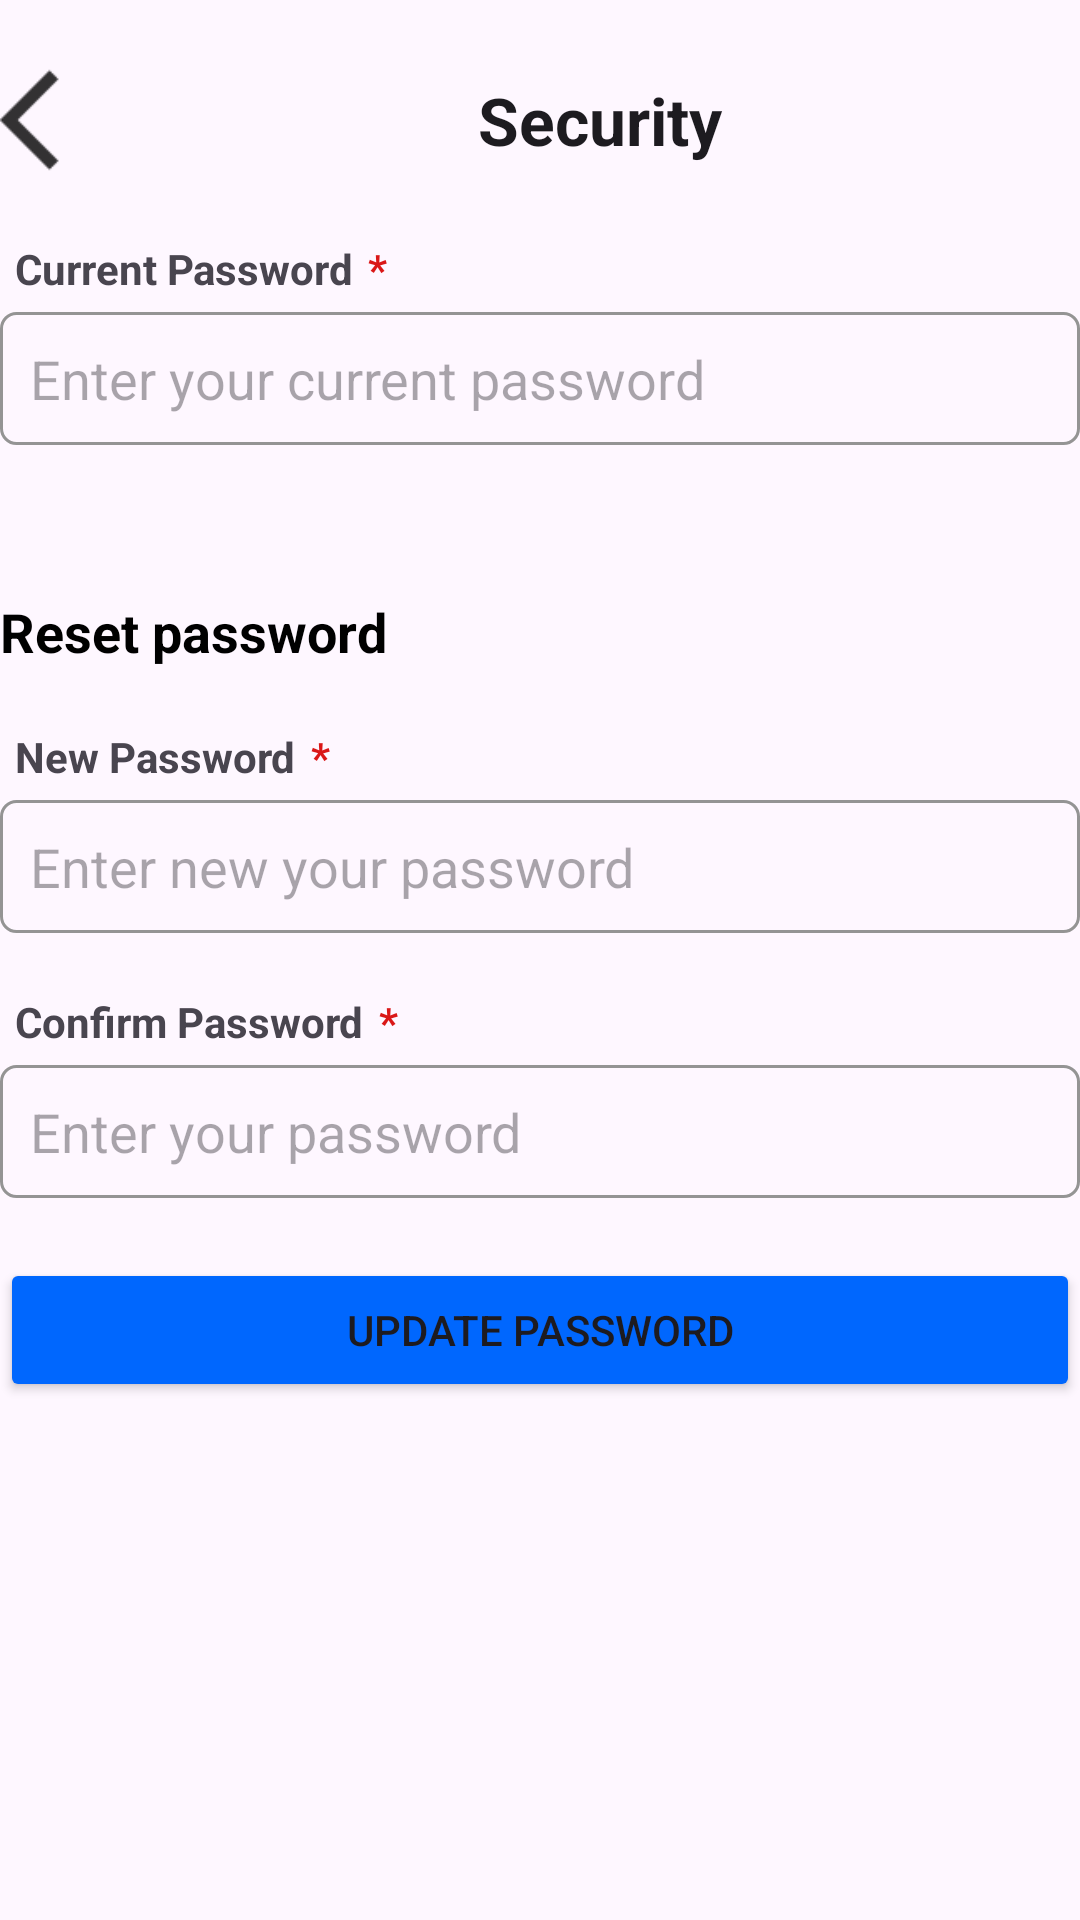

Screen size 1080 x 1920. Icon name, then its box in pixels as (x1, y1, x2, y2):
back: (0, 70, 59, 170)
